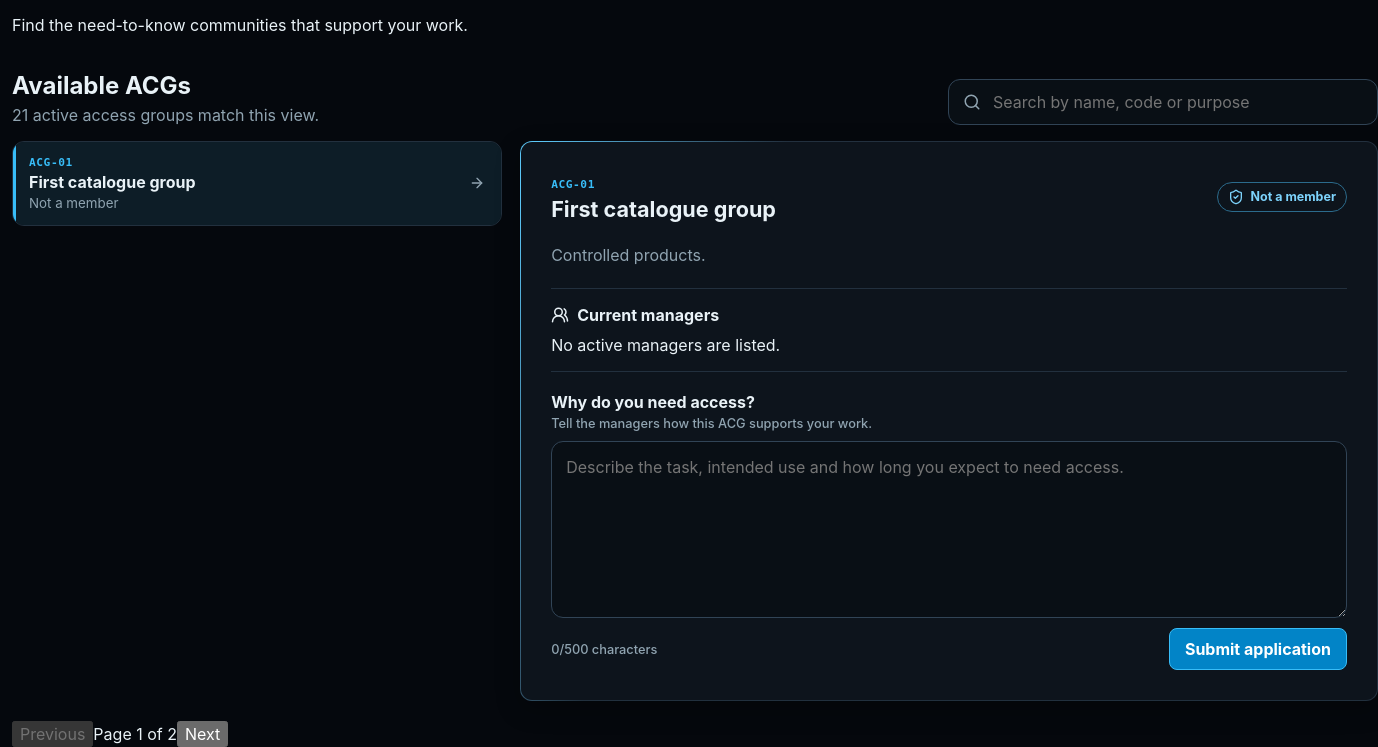
it: lets users browse beyond the first catalogue page
(page scrolled)
Expected: the text "First catalogue group" is shown, left=29, top=172, right=196, bottom=192
What coordinates should you click on to do the following:
click the button "Next"
I would click on:
 (203, 734)
Its box is left=177, top=721, right=228, bottom=746.
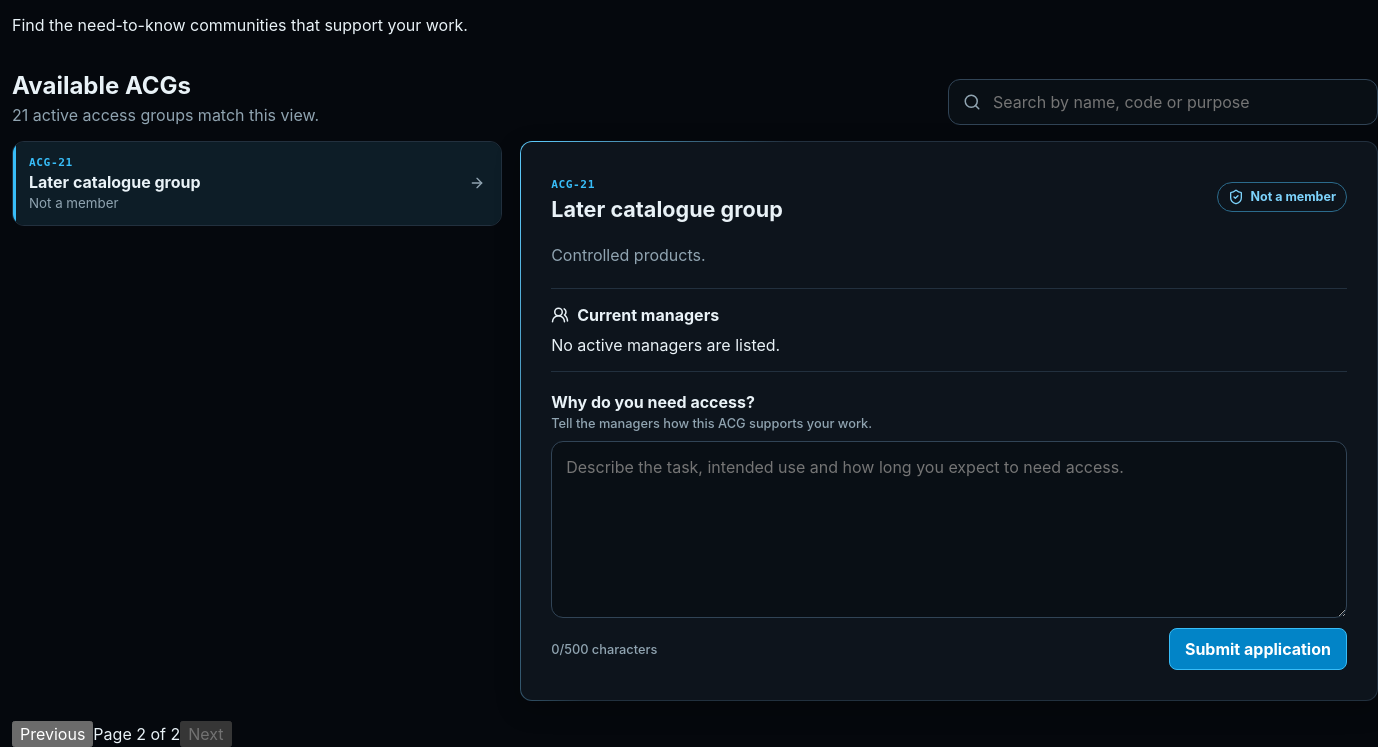
Expected: the text "Later catalogue group" is shown, left=29, top=172, right=201, bottom=192
What coordinates should you click on to do the following:
click the button "Previous"
I would click on:
 (53, 734)
Its box is left=12, top=721, right=93, bottom=746.
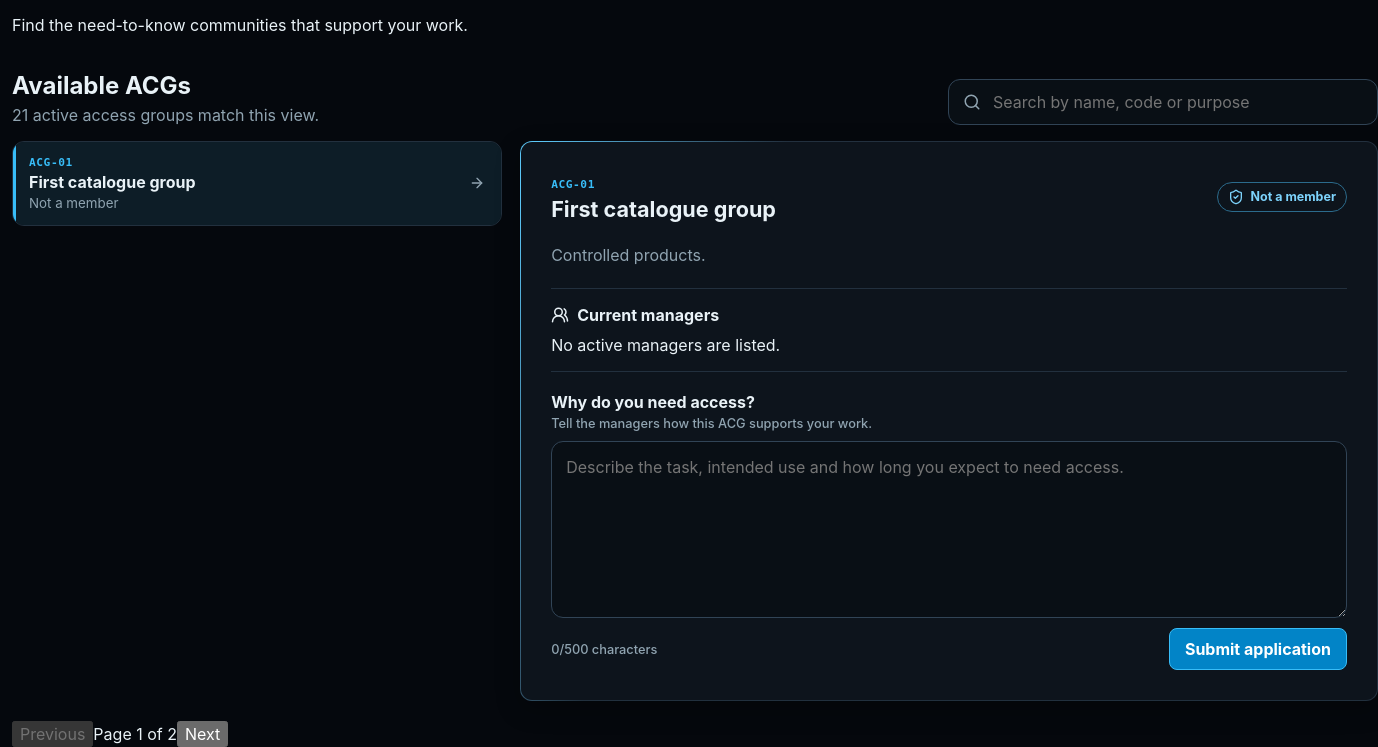
Expected: the text "First catalogue group" is shown, left=29, top=172, right=196, bottom=192
